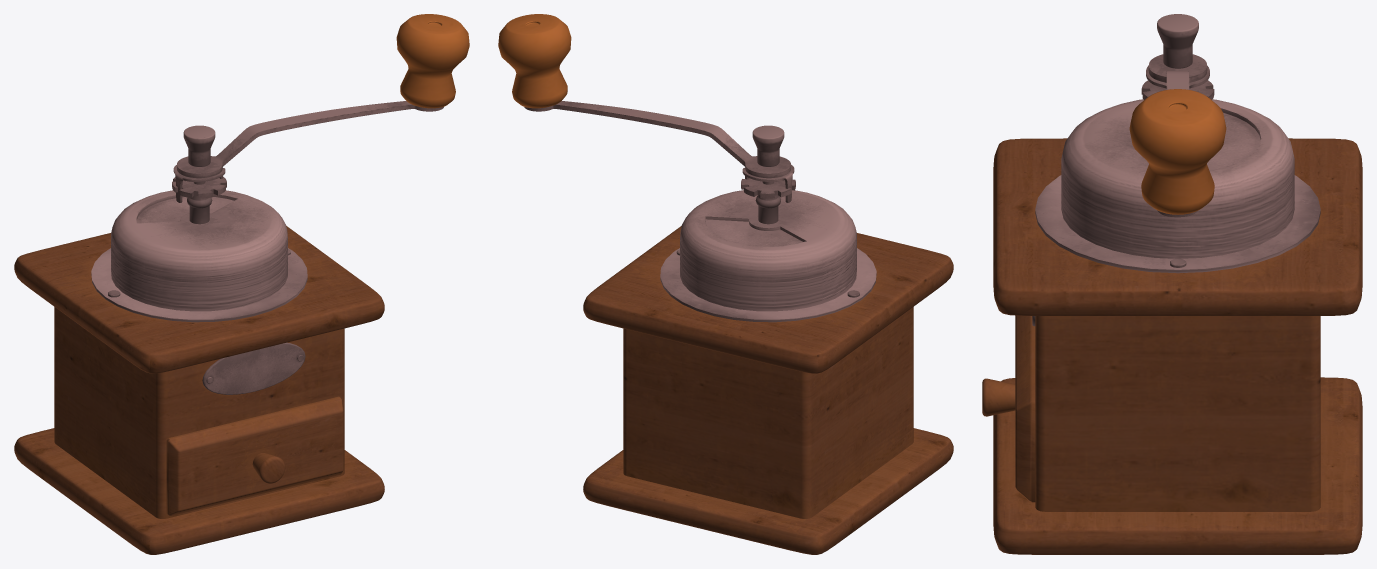
The model's file is MEGA_PACK_kitchen__kitchen_coffeebeangrinder.glb.
3 renders of one model, left to right at view 1: azimuth 30°, elevation 25°; view 2: azimuth 150°, elevation 25°; view 3: azimuth 270°, elevation 25°, orthographic. The views are drawn at different scales.
Parts seen in each view (by area): view 1: kitchen_coffeebeangrinder; view 2: kitchen_coffeebeangrinder; view 3: kitchen_coffeebeangrinder.
Part boxes in pixels (x1,y1,x2,y2): kitchen_coffeebeangrinder: (14, 14, 469, 554); kitchen_coffeebeangrinder: (498, 14, 953, 554); kitchen_coffeebeangrinder: (982, 14, 1362, 554).
Bounding box in the file's own units: 0.1866 × 0.1849 × 0.1207.
Materials: 1 (1 with a texture image).
